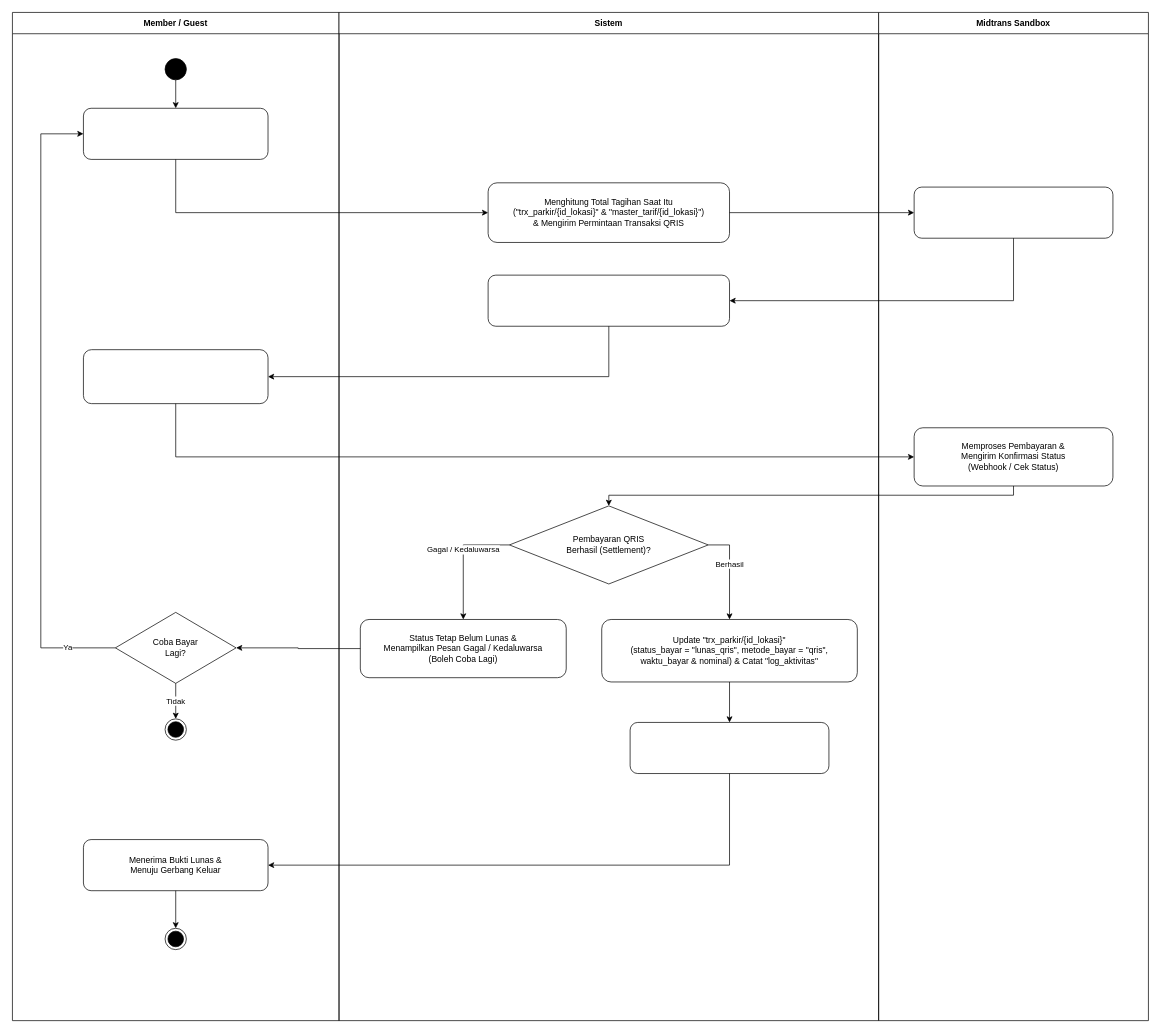
Image size: 1161x1033. Some labels were removed from this diagram. Each missing label, with the centre of its shape:
Membuat Transaksi QRIS & Mengirimkan Kode QRIS Pembayaran: [1013,212]
Memindai & Menyelesaikan Pembayaran QRIS via E-Wallet / M-Banking: [175,376]
Menampilkan Bukti Lunas Pembayaran QRIS: [729,748]
Menampilkan Kode QRIS & Batas Waktu Pembayaran ke Pengguna: [608,300]
Menekan Tombol "Bayar QRIS" pada Halaman Tagihan: [175,133]
